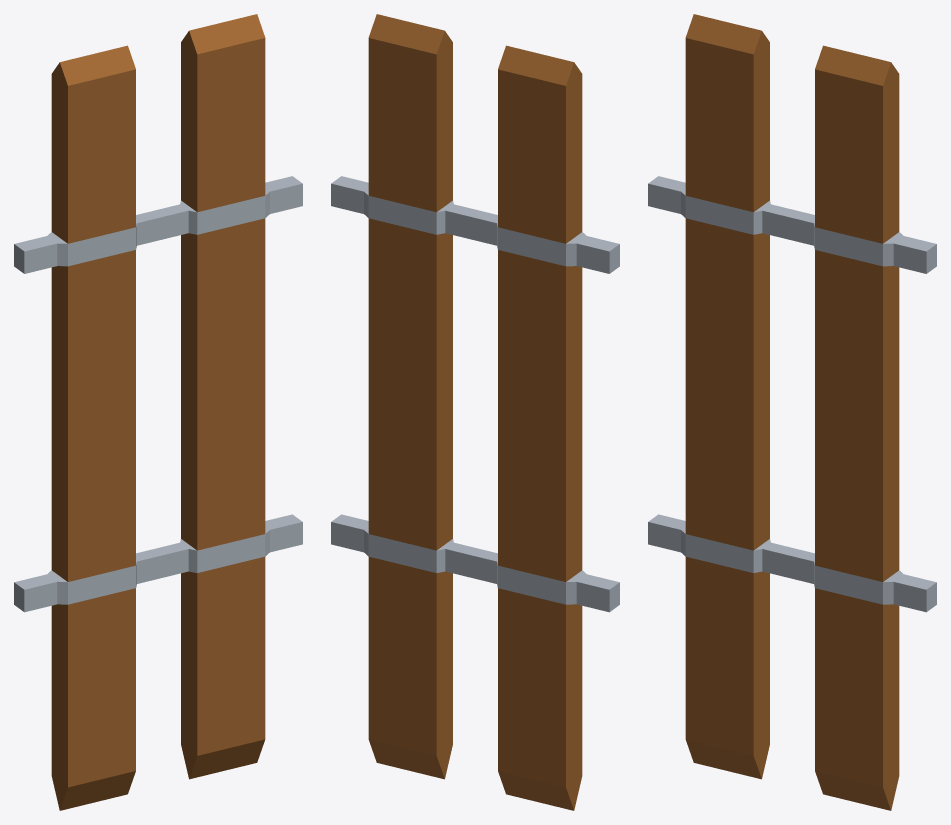
Rendered from fence.fbx.
The picture shows the model from 3 angles, left to right: view 1: azimuth 30°, elevation 25°; view 2: azimuth 150°, elevation 25°; view 3: azimuth 330°, elevation 25°; orthographic projection.
Parts seen in each view (by area): view 1: Fence; view 2: Fence; view 3: Fence.
Part boxes in pixels (bbox=[...]): Fence: bbox=[14, 14, 302, 810]; Fence: bbox=[331, 14, 619, 810]; Fence: bbox=[648, 14, 936, 810].
Size of the model in its own units: 0.8611 by 0.0879 by 2.21.
Materials: 1 (1 with a texture image).
